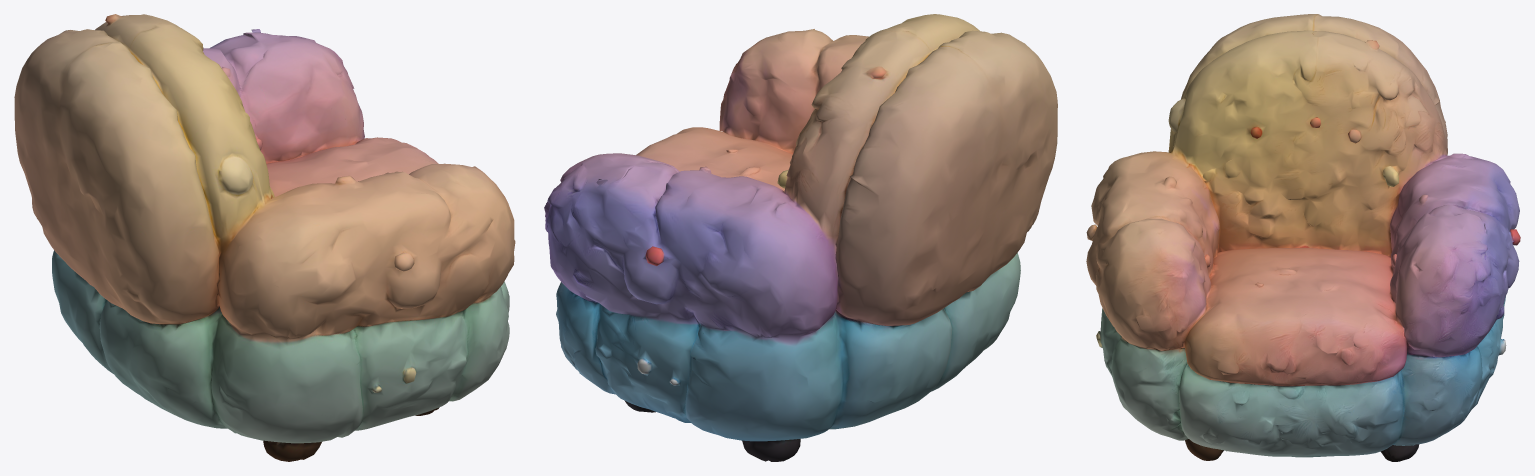
File: armchair_v2_h3.glb
3 renders of one model, left to right at view 1: azimuth 30°, elevation 25°; view 2: azimuth 150°, elevation 25°; view 3: azimuth 270°, elevation 25°, orthographic. The views are drawn at different scales.
Parts seen in each view (by area): view 1: tripo_node_4dbf8a0f-dcc3-4599-8402-ce6a57afc280; view 2: tripo_node_4dbf8a0f-dcc3-4599-8402-ce6a57afc280; view 3: tripo_node_4dbf8a0f-dcc3-4599-8402-ce6a57afc280.
Boxes of the visible parts, left/top/right/bottom form: tripo_node_4dbf8a0f-dcc3-4599-8402-ce6a57afc280: left=14, top=14, right=515, bottom=461; tripo_node_4dbf8a0f-dcc3-4599-8402-ce6a57afc280: left=544, top=14, right=1057, bottom=461; tripo_node_4dbf8a0f-dcc3-4599-8402-ce6a57afc280: left=1086, top=14, right=1520, bottom=461.
Size of the model in its own units: 0.9343 by 0.8502 by 1.
Materials: 1 (1 with a texture image).
